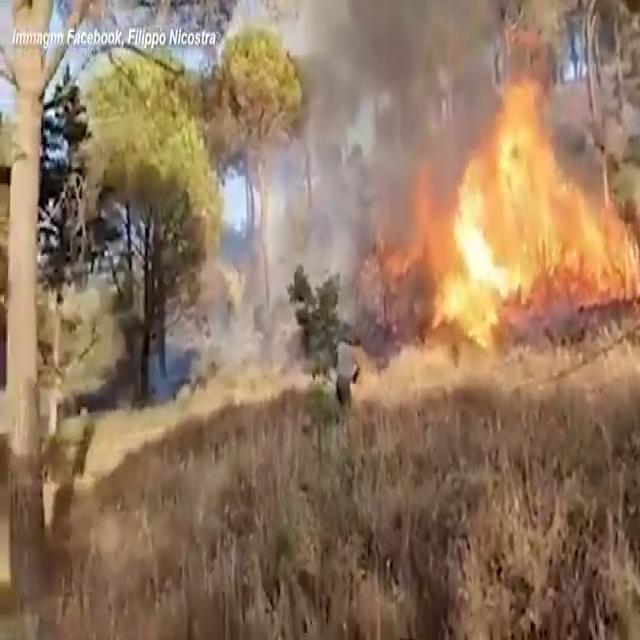Fire: (424, 60, 638, 354)
Smoke: (276, 0, 474, 290)
